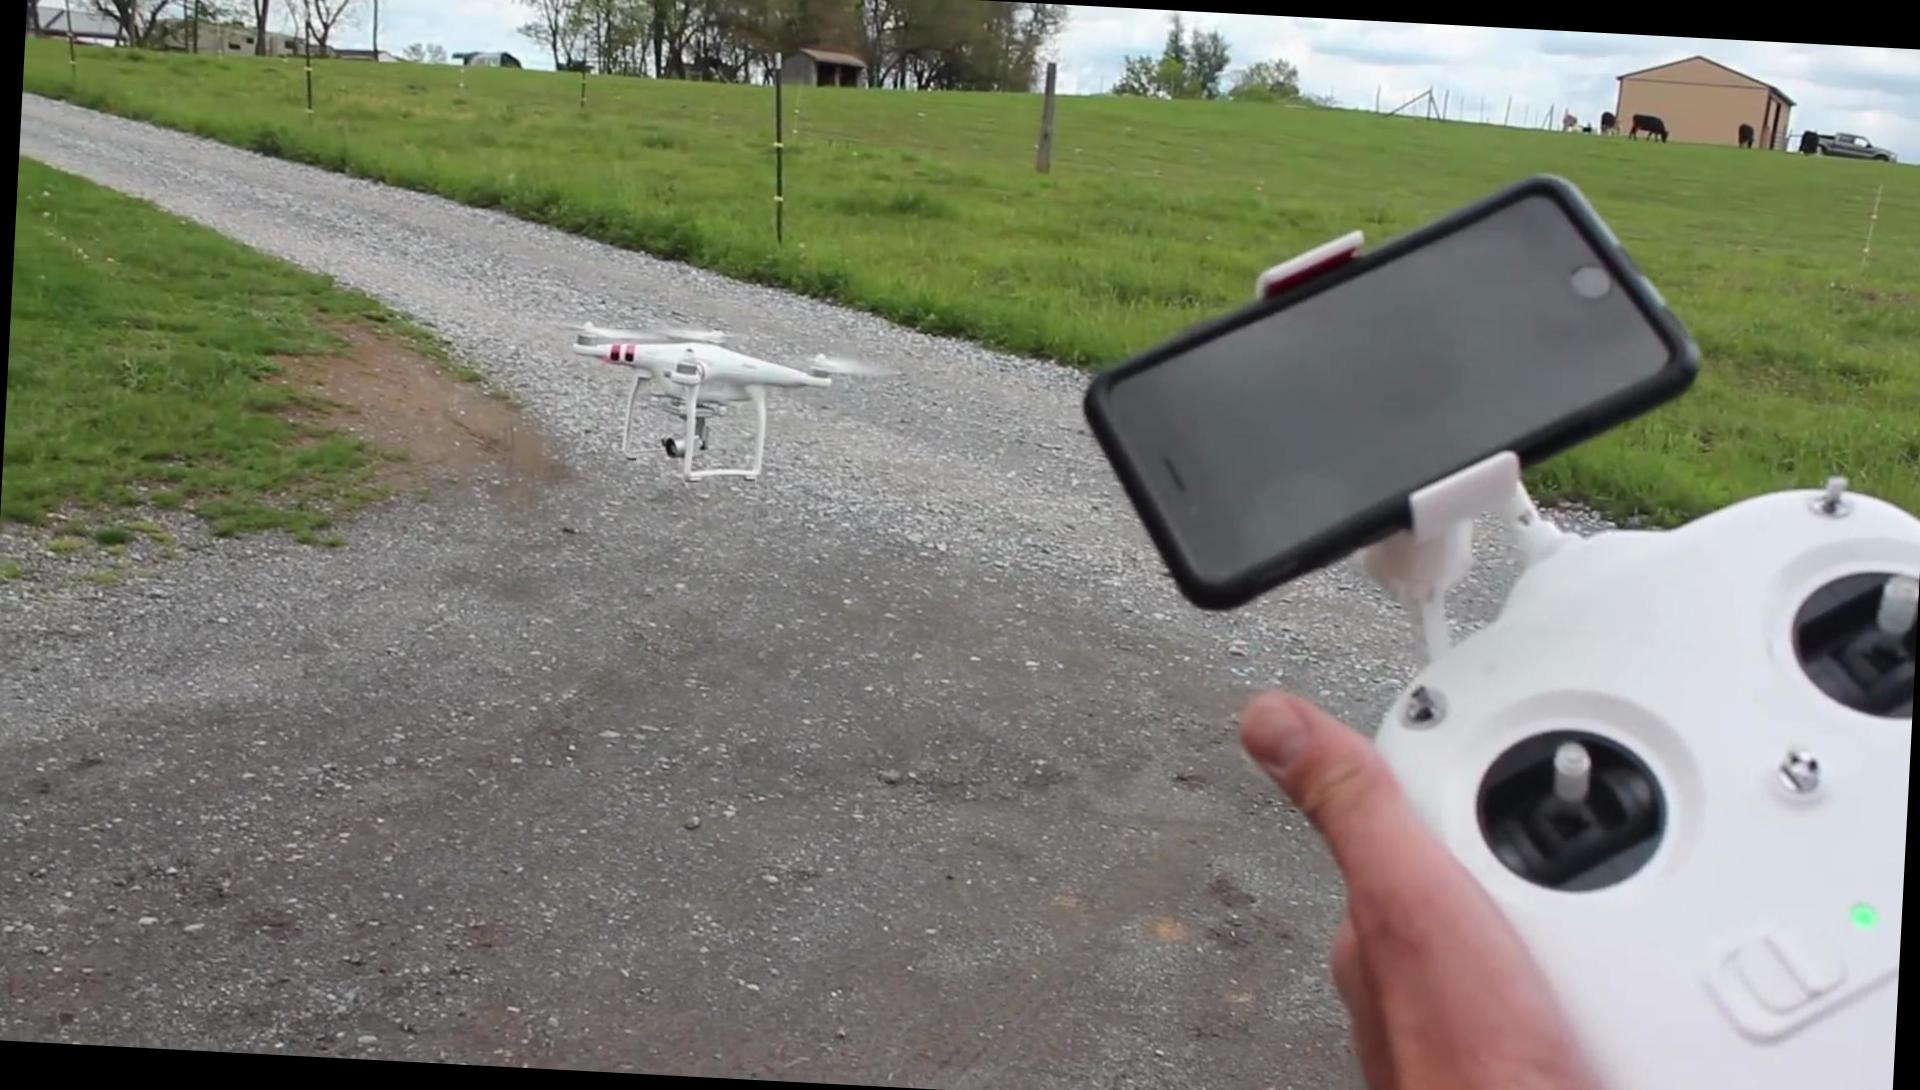drone: (559, 312, 848, 488)
